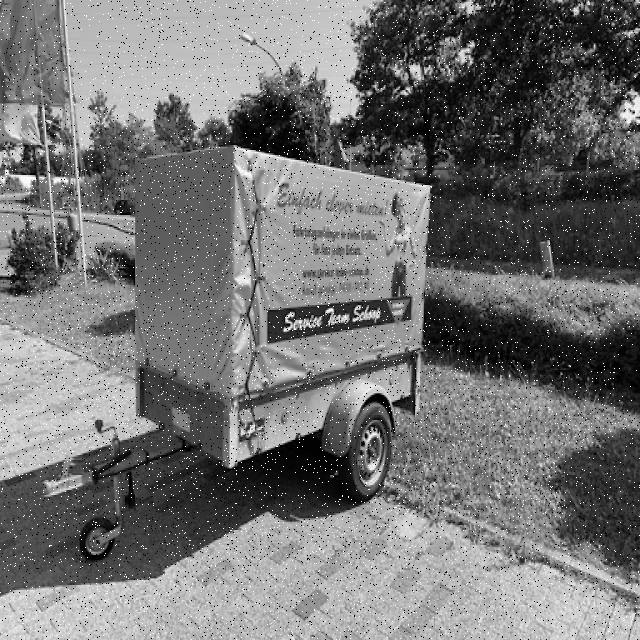Box Truck: (42, 146, 430, 563)
